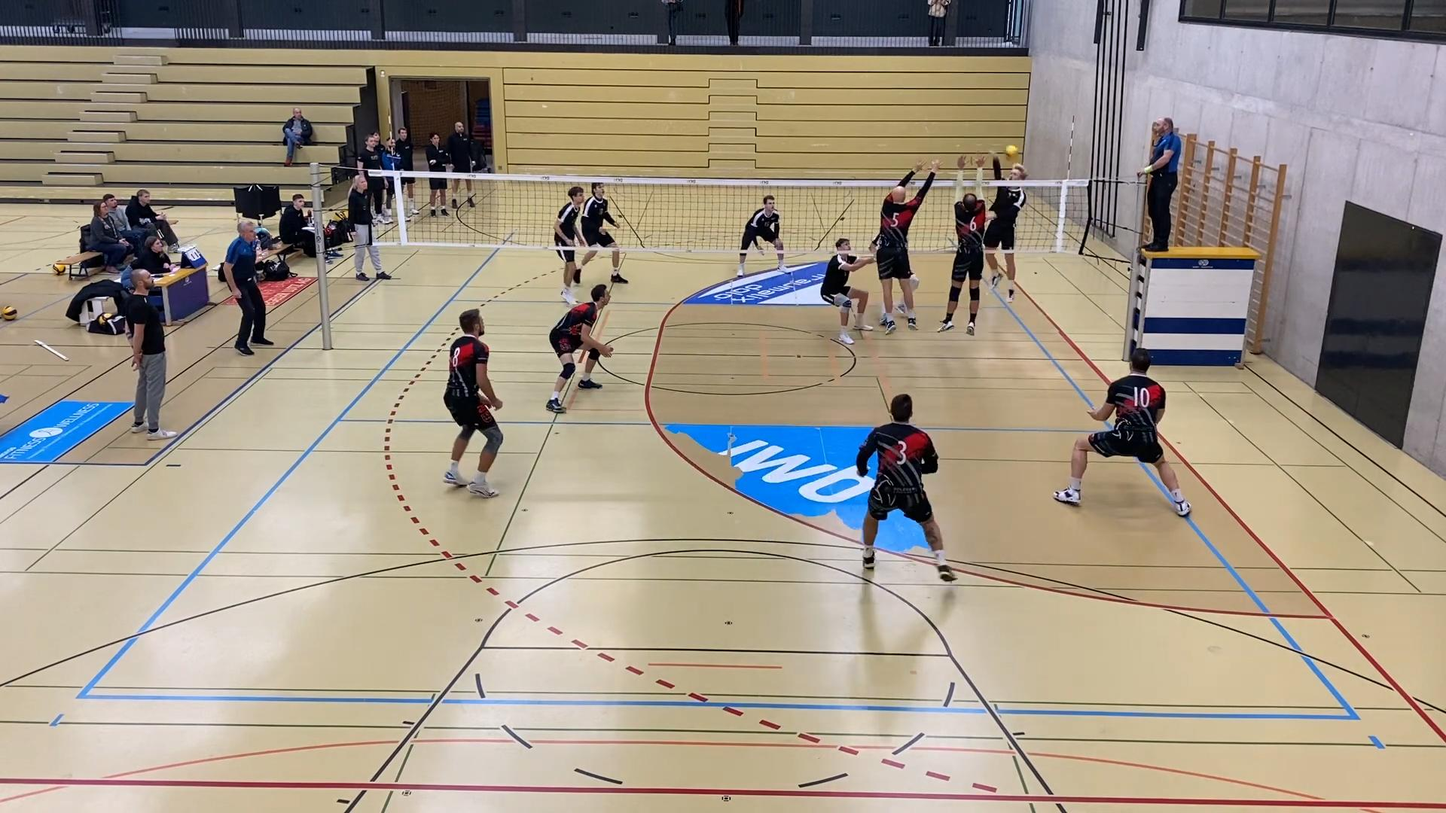Attack: (977, 143, 1029, 302)
Block: (869, 157, 951, 334), (937, 151, 990, 335)
Player: (1054, 348, 1191, 516), (856, 394, 955, 581), (444, 309, 502, 497), (546, 283, 612, 413), (820, 239, 874, 344), (581, 183, 627, 283), (737, 195, 784, 276), (554, 186, 584, 306)
ball: (1002, 141, 1018, 155)
